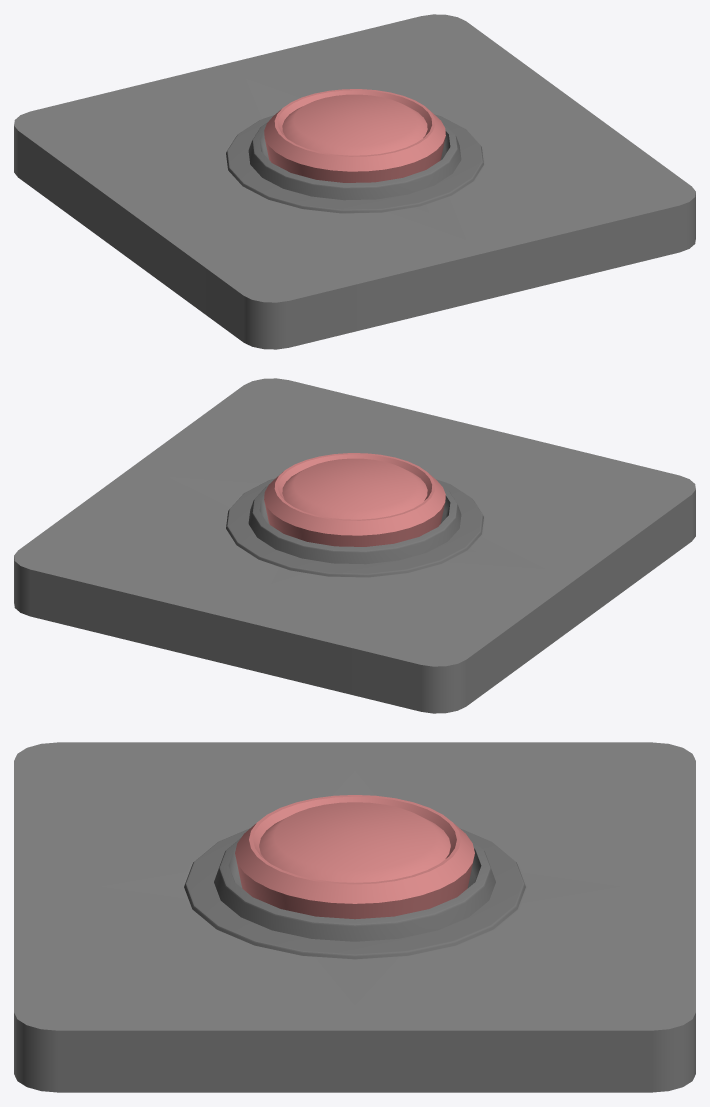
The model's file is Button.fbx.
3 views of the same model, one above another, from view 1: azimuth 30°, elevation 25°; view 2: azimuth 150°, elevation 25°; view 3: azimuth 270°, elevation 25° (orthographic). The views are drawn at different scales.
Visible parts, largest first — view 1: ButtonPlate, Button; view 2: ButtonPlate, Button; view 3: ButtonPlate, Button.
Boxes of the visible parts, x1=… form: ButtonPlate: x1=14, y1=14, x2=695, y2=349; Button: x1=264, y1=89, x2=445, y2=182; ButtonPlate: x1=14, y1=378, x2=695, y2=713; Button: x1=264, y1=453, x2=445, y2=546; ButtonPlate: x1=14, y1=742, x2=695, y2=1092; Button: x1=235, y1=795, x2=474, y2=919.
Bounding box in the file's own units: 12.76 × 2.4 × 12.76.
